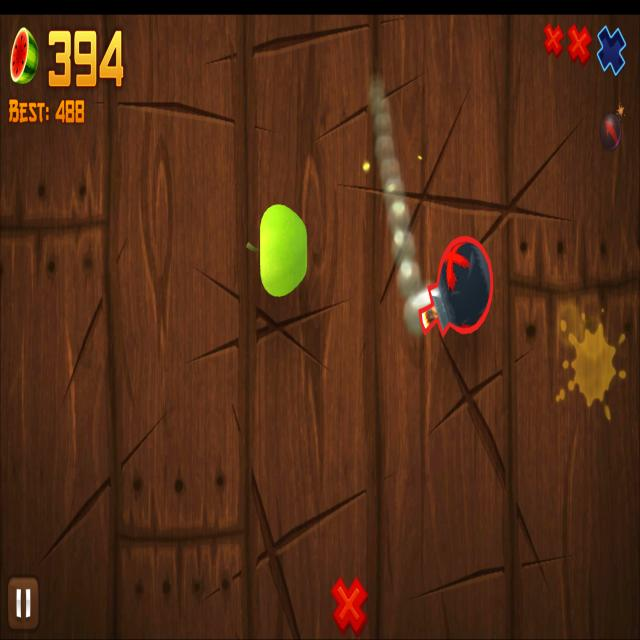bomb: (418, 235, 494, 338)
fruit: (260, 205, 308, 298)
